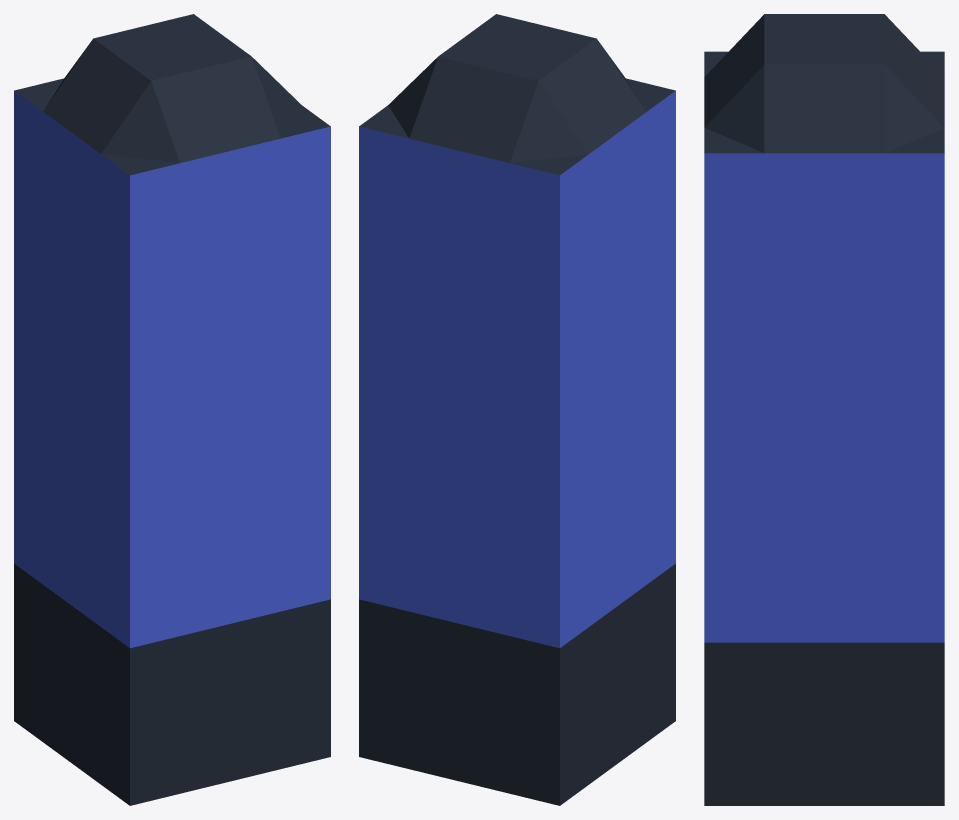
Rendered from edificio.fbx.
The picture shows the model from 3 angles, left to right: view 1: azimuth 30°, elevation 25°; view 2: azimuth 150°, elevation 25°; view 3: azimuth 270°, elevation 25°; orthographic projection. The views are drawn at different scales.
Visible parts, largest first — view 1: Cubo; view 2: Cubo; view 3: Cubo.
Boxes of the visible parts, left/top/right/bottom form: Cubo: left=14, top=14, right=330, bottom=805; Cubo: left=359, top=14, right=675, bottom=805; Cubo: left=704, top=14, right=944, bottom=805.
Bounding box in the file's own units: 100 × 329 × 100.
